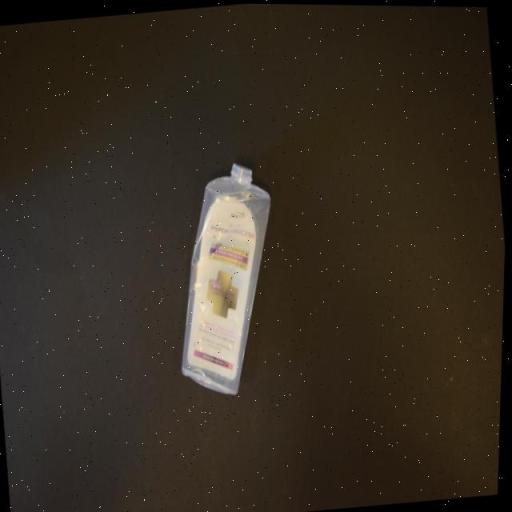plastic: (160, 158, 294, 404)
